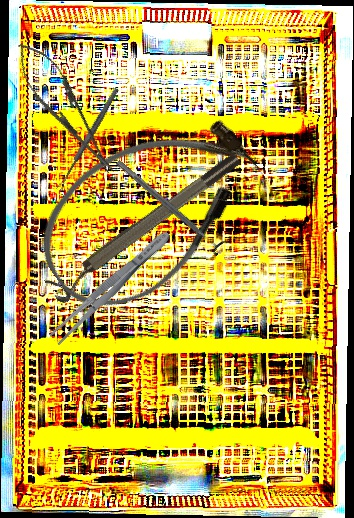Cannula: (15, 88, 284, 335)
Dressing Forceps: (47, 226, 175, 348)
Fixation Ring: (43, 149, 250, 306), (111, 153, 229, 258)
Needle Holder: (4, 33, 126, 183)
Surgical Spoon: (55, 87, 120, 192)
